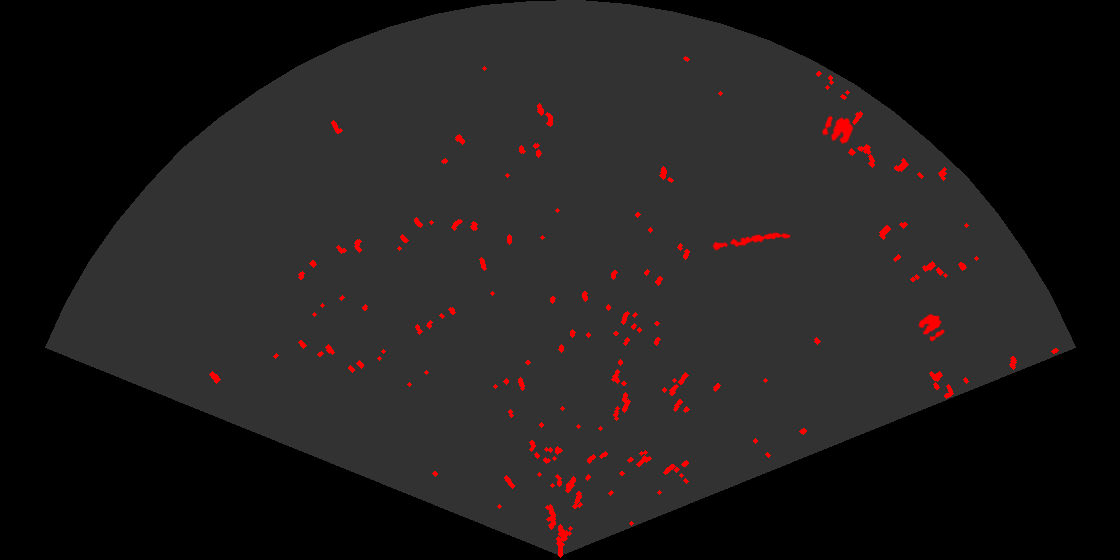ball: (820, 114, 855, 146), (917, 312, 946, 343)
chain: (709, 231, 791, 252)
